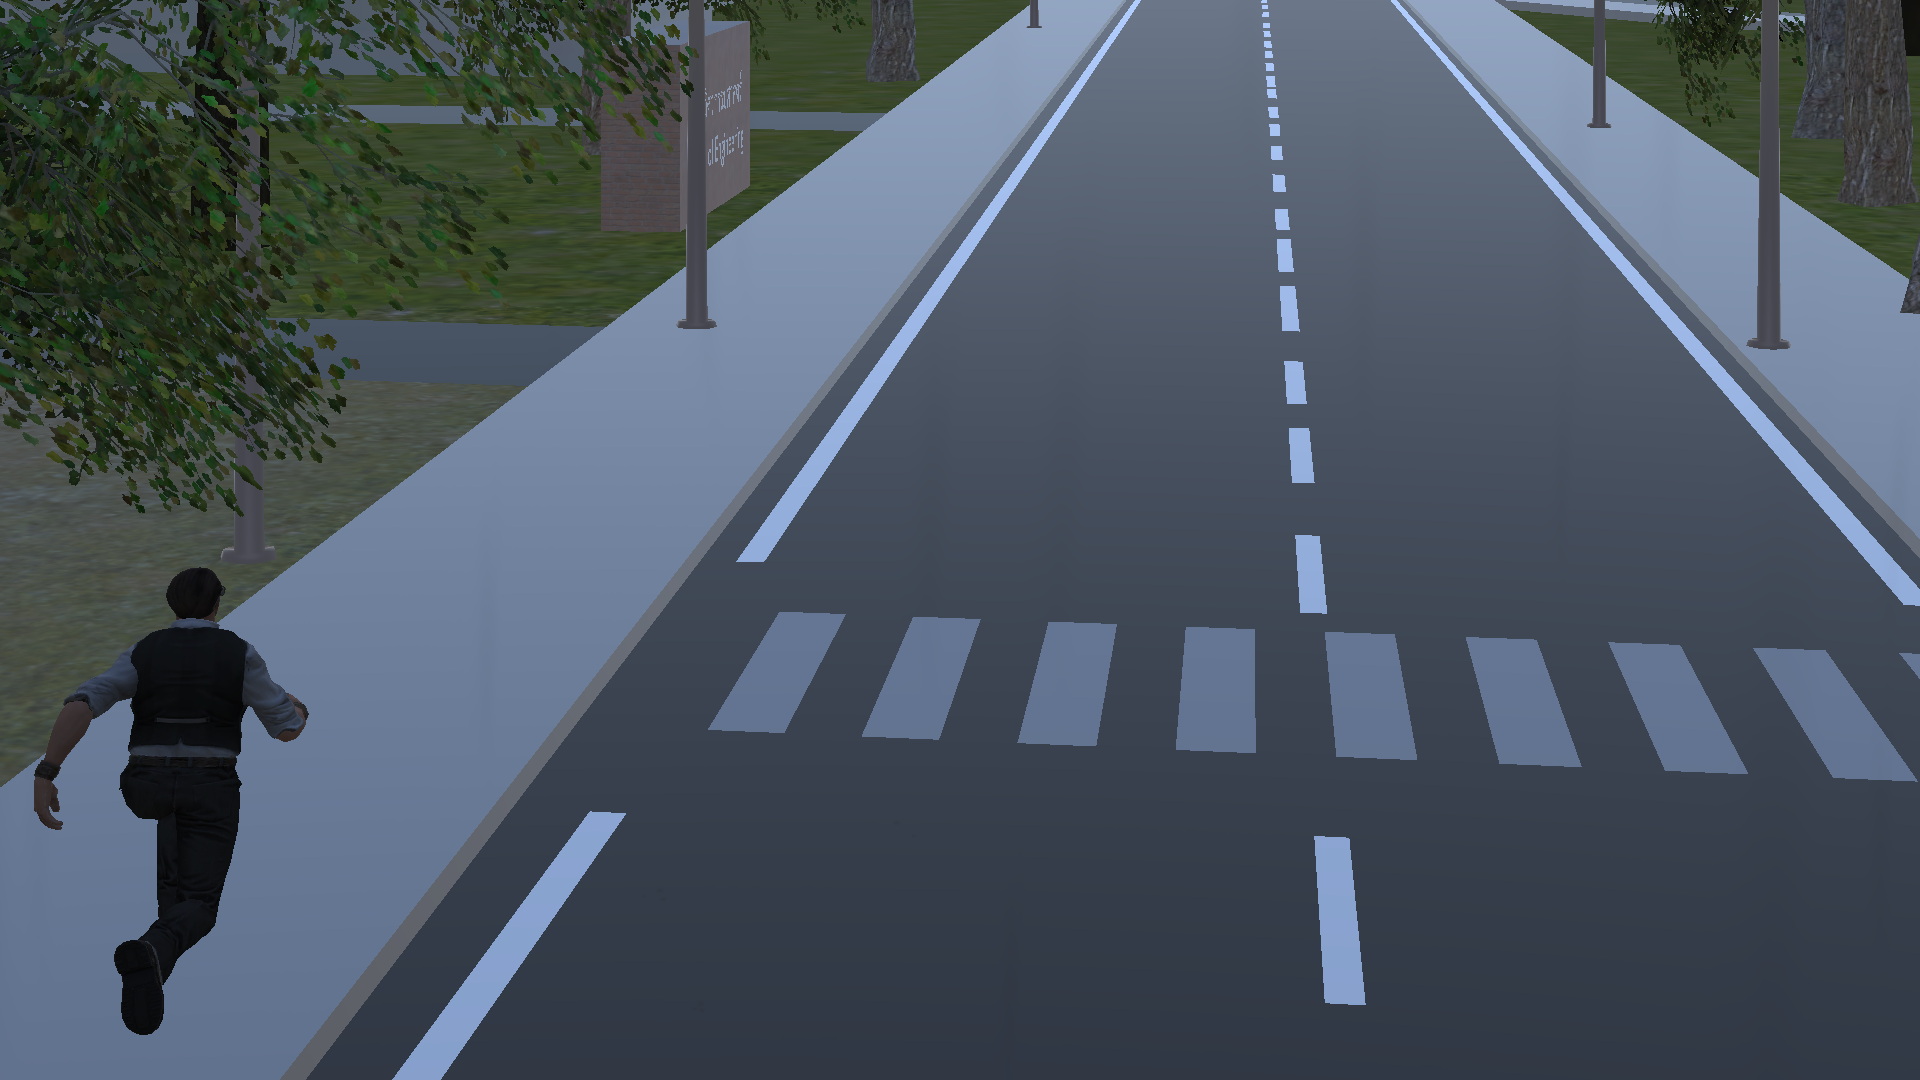pedestrian: (27, 551, 326, 1063)
